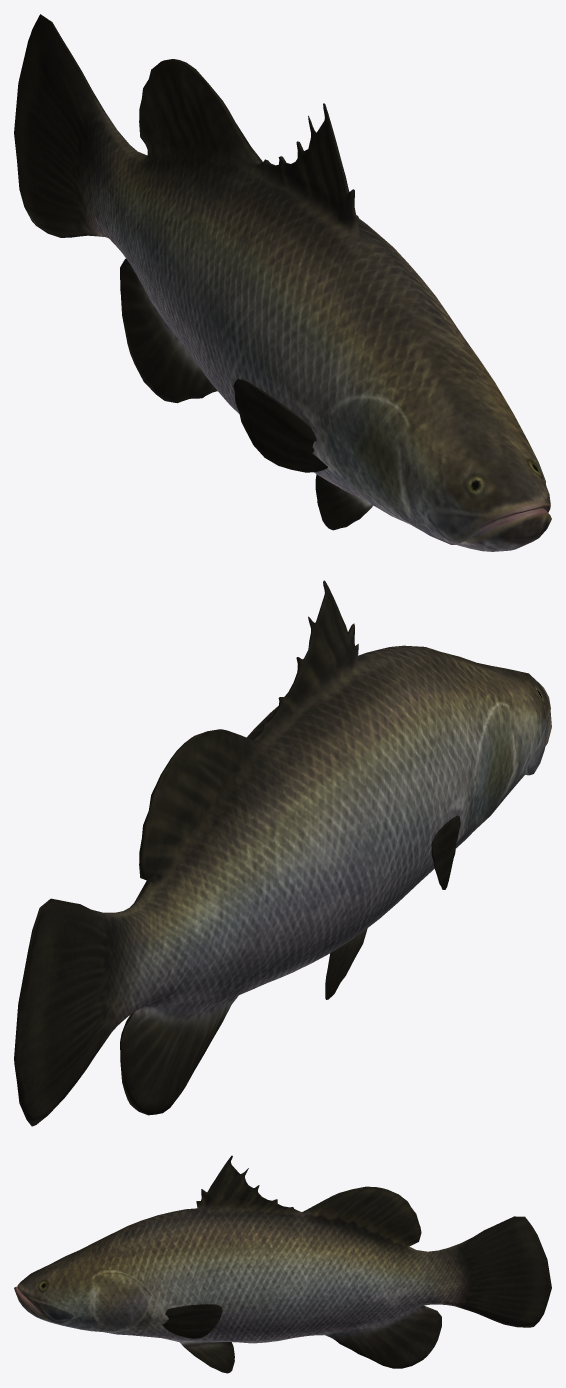
Rendered from barramundi-fish.glb.
3 views of the same model, one above another, from view 1: azimuth 30°, elevation 25°; view 2: azimuth 150°, elevation 25°; view 3: azimuth 270°, elevation 25° (orthographic). The views are drawn at different scales.
Parts seen in each view (by area): view 1: BarramundiFish; view 2: BarramundiFish; view 3: BarramundiFish.
Part boxes in pixels (box(x1,y1,x2,y2)): BarramundiFish: box(14, 14, 551, 551); BarramundiFish: box(14, 580, 551, 1126); BarramundiFish: box(14, 1155, 551, 1373).
Size of the model in its own units: 0.1429 by 0.2875 by 0.6431.
Materials: 1 (1 with a texture image).
